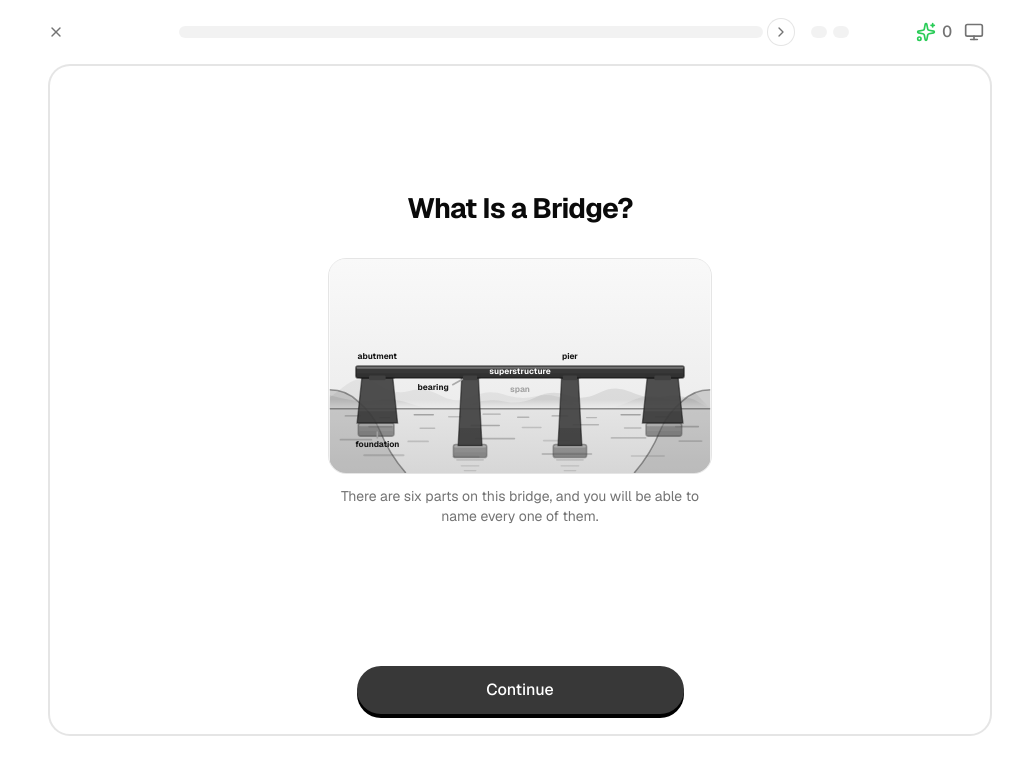
Test: Bridge Engineering, in the lesson player › walks the first lesson from the drawing to the questions
Check: the heading "What Is a Bridge?" is shown, box [407, 190, 633, 226]
Note: the definition.
Step 1. Click the button "Continue" → (520, 690), box [356, 666, 684, 714]
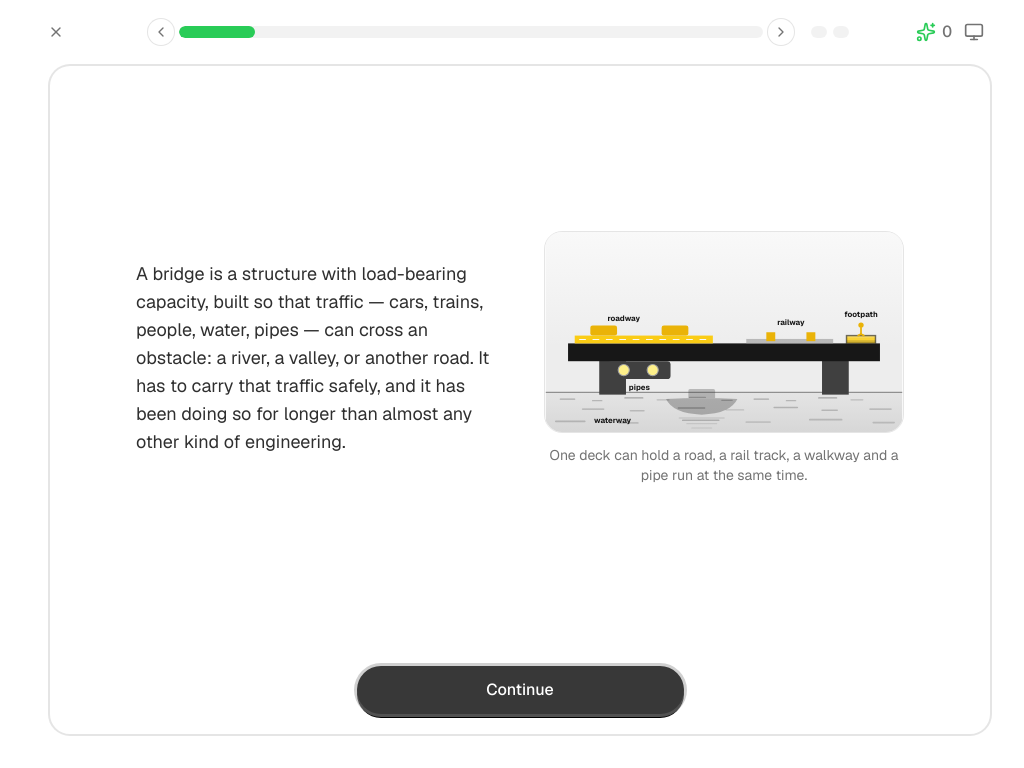
Check: the text "structure with load-bearing capacity" is shown, box [136, 262, 489, 453]
Note: the drawing, on the card.
Step 2. Click the button "Continue" → (520, 690), box [356, 666, 684, 714]
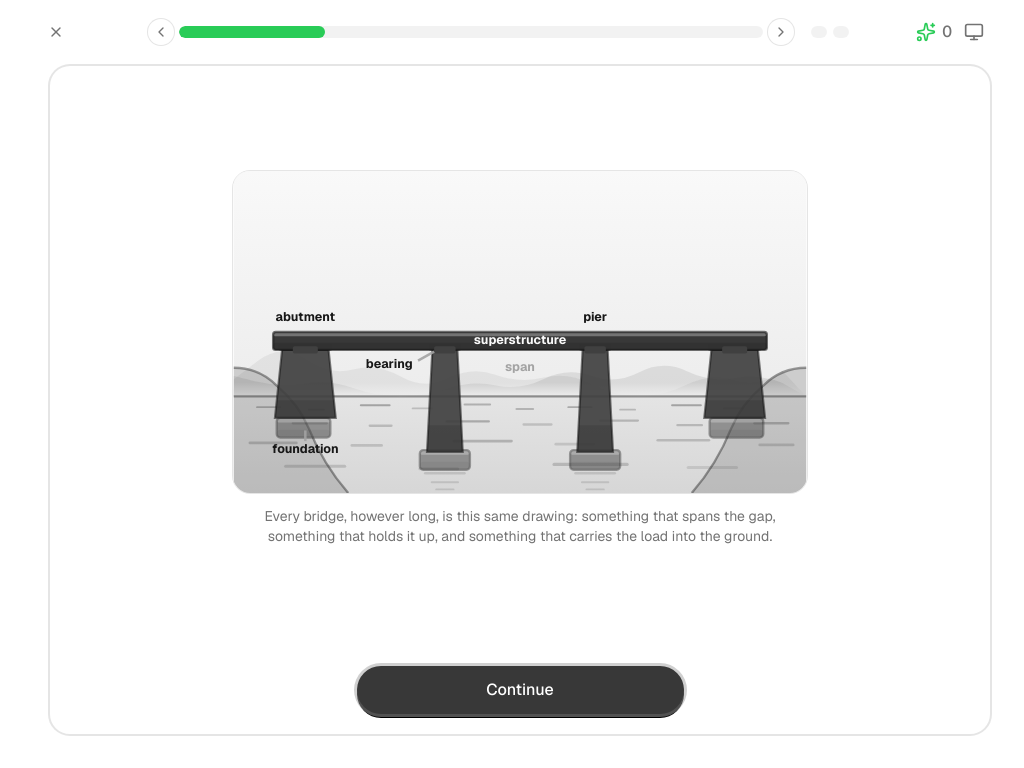
Check: the picture named "elevation of a bridge crossing a river" is shown, box [233, 171, 807, 493]
Check: the text "something that spans the gap" is shown, box [264, 507, 776, 545]
Note: the guided tour — every part has to be found by tapping its pin.
Step 3. Click the button "Continue" → (520, 690), box [356, 666, 684, 714]
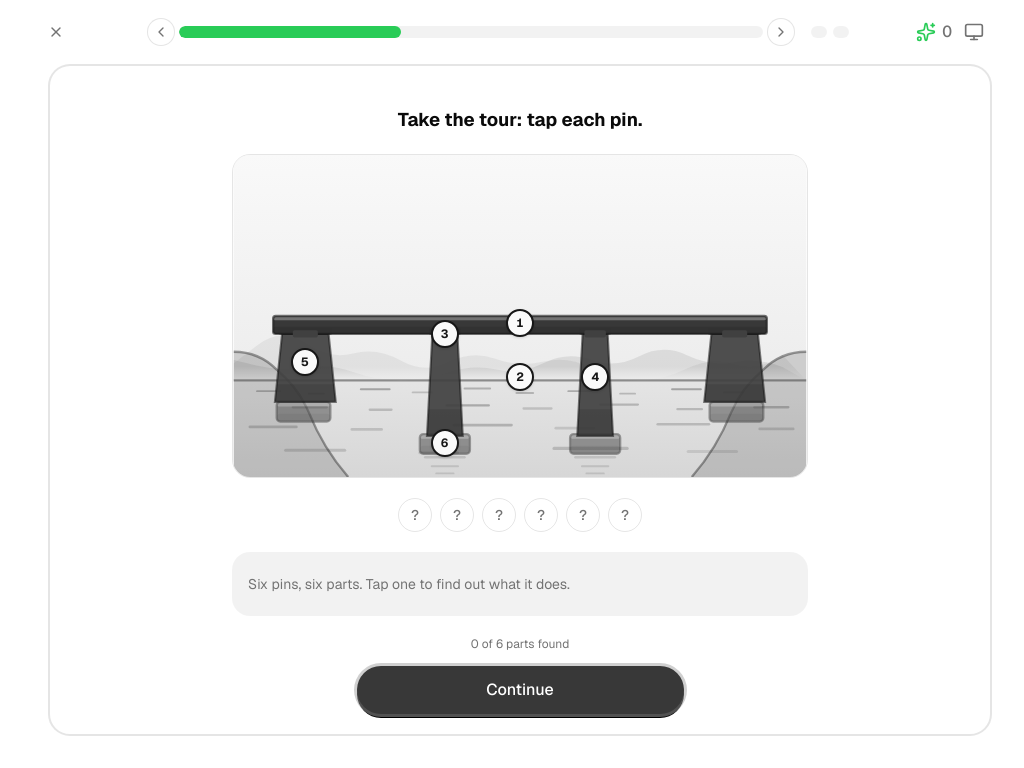
Check: the text "0 of 6 parts found" is shown, box [471, 636, 569, 650]
Step 4. Click the button named "Part 1" → (520, 323), box [506, 309, 534, 337]
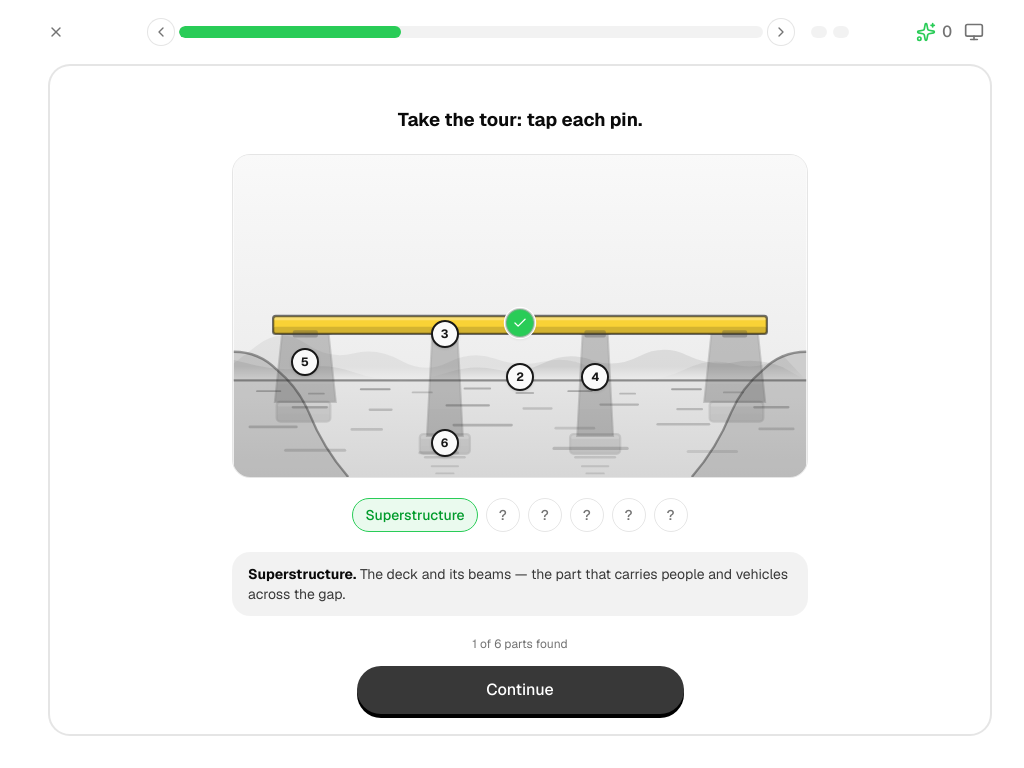
Check: the text "1 of 6 parts found" is shown, box [472, 636, 568, 650]
Check: the text "Superstructure." is shown, box [248, 565, 356, 583]
